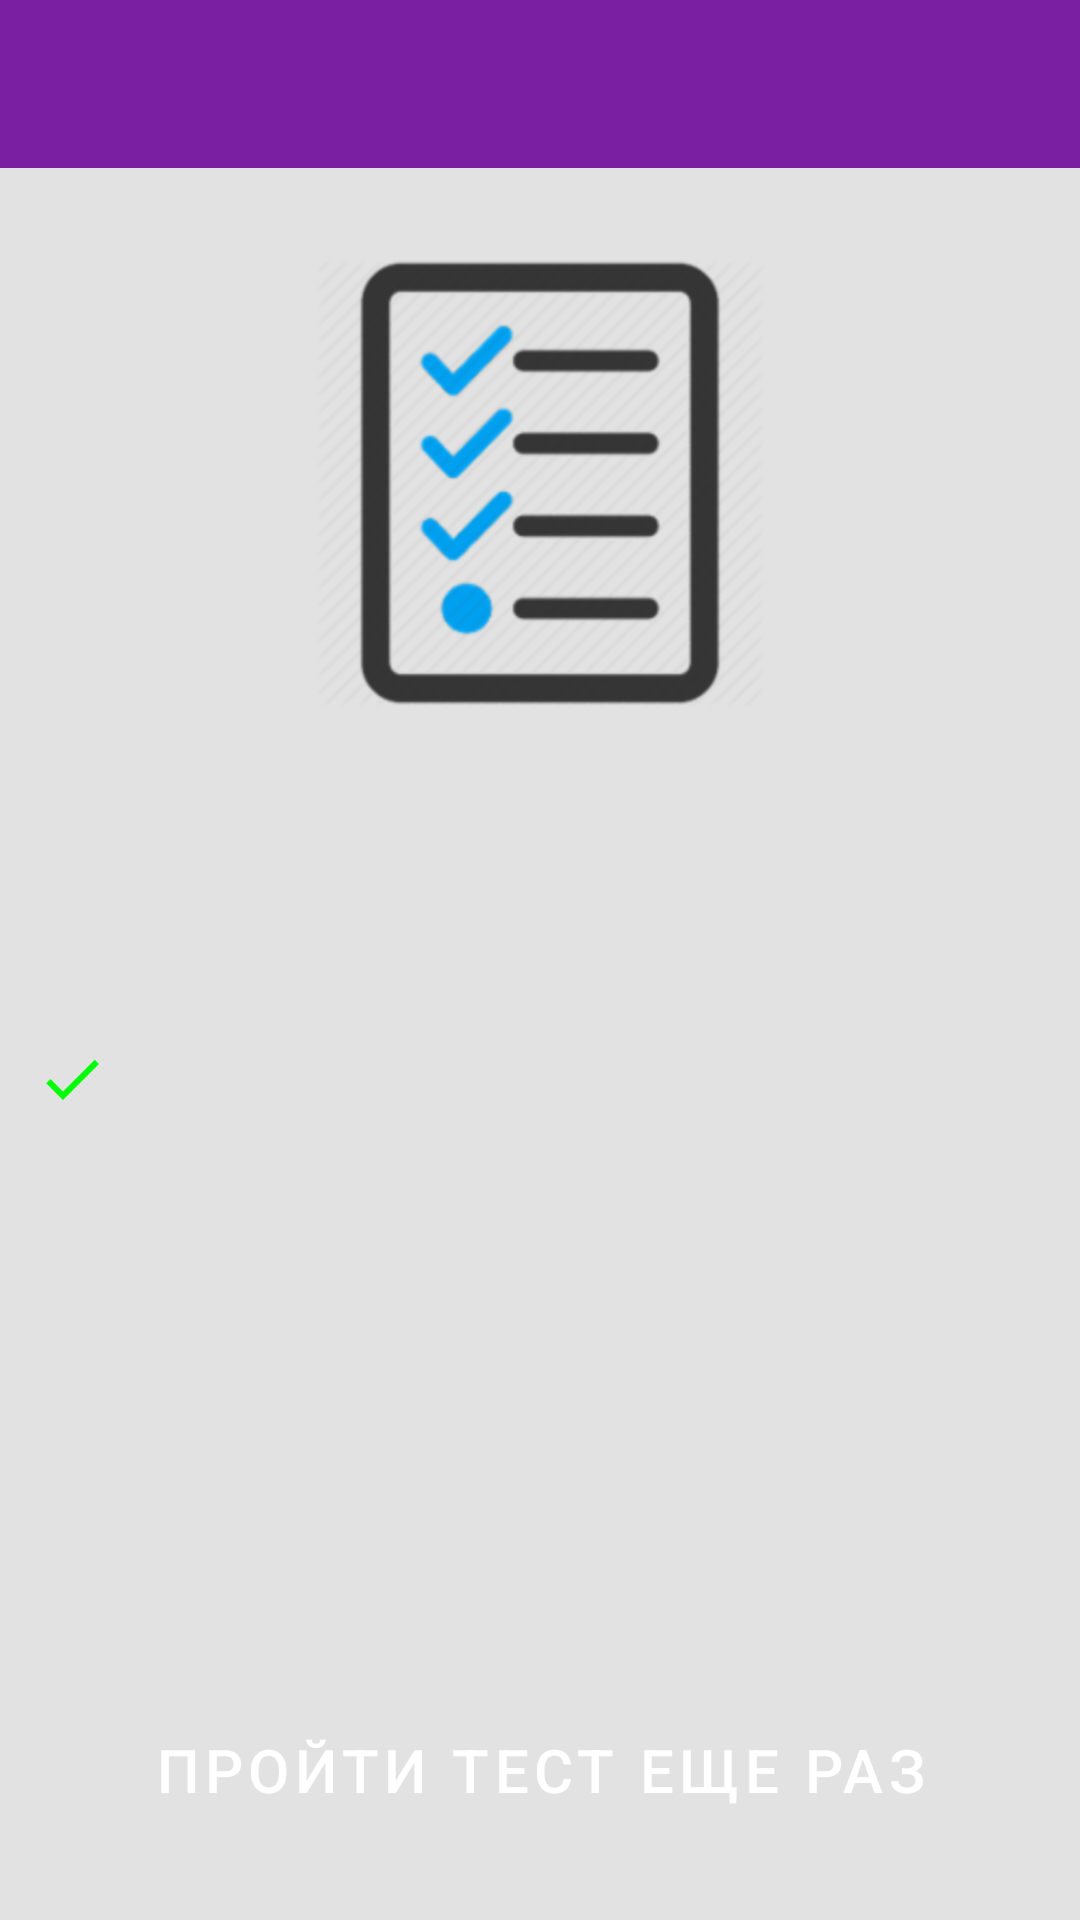

Where to tap for icons on this 1080*1920 app screen, as [x,y]:
check: [72,1080]
